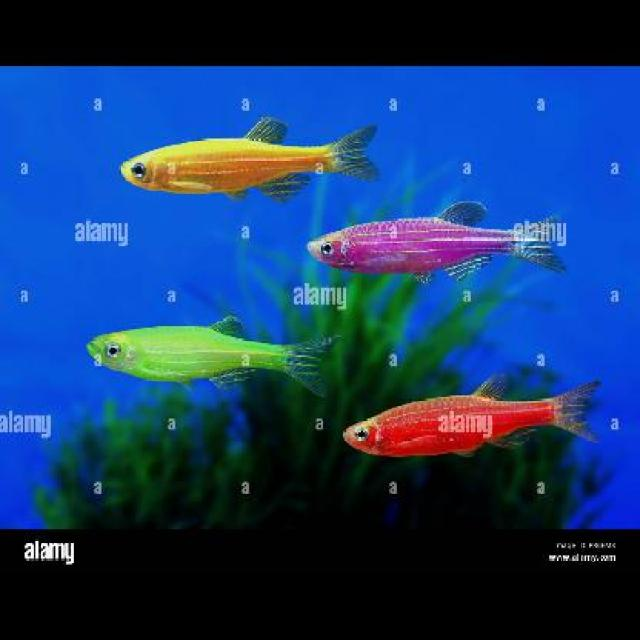ZebraFish: (337, 367, 601, 458), (117, 111, 378, 203), (305, 198, 566, 284), (89, 313, 336, 392)
